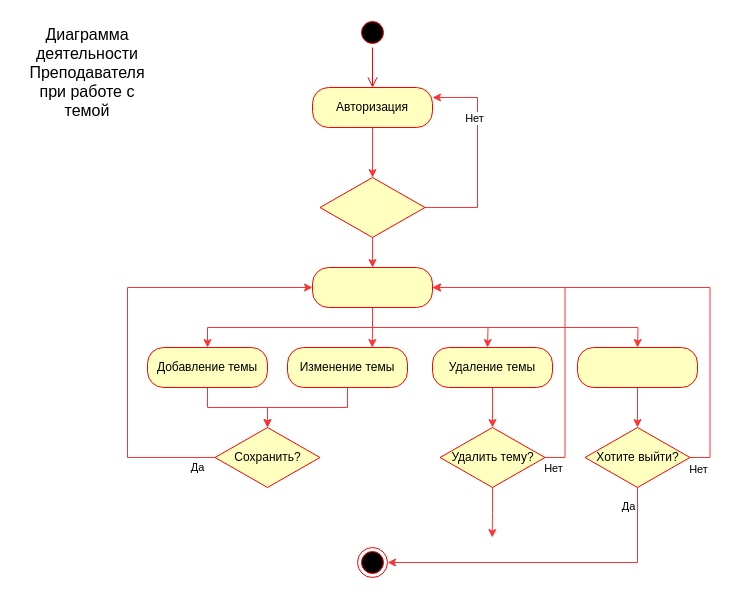
Some shapes in this 735 by 595 pixel diagram are drawn without their labels. Each missing label, with the centre of its shape:
"Выбор действия" goes at point (372, 287).
"Выход" goes at point (637, 367).
"Успешно?" goes at point (372, 207).
